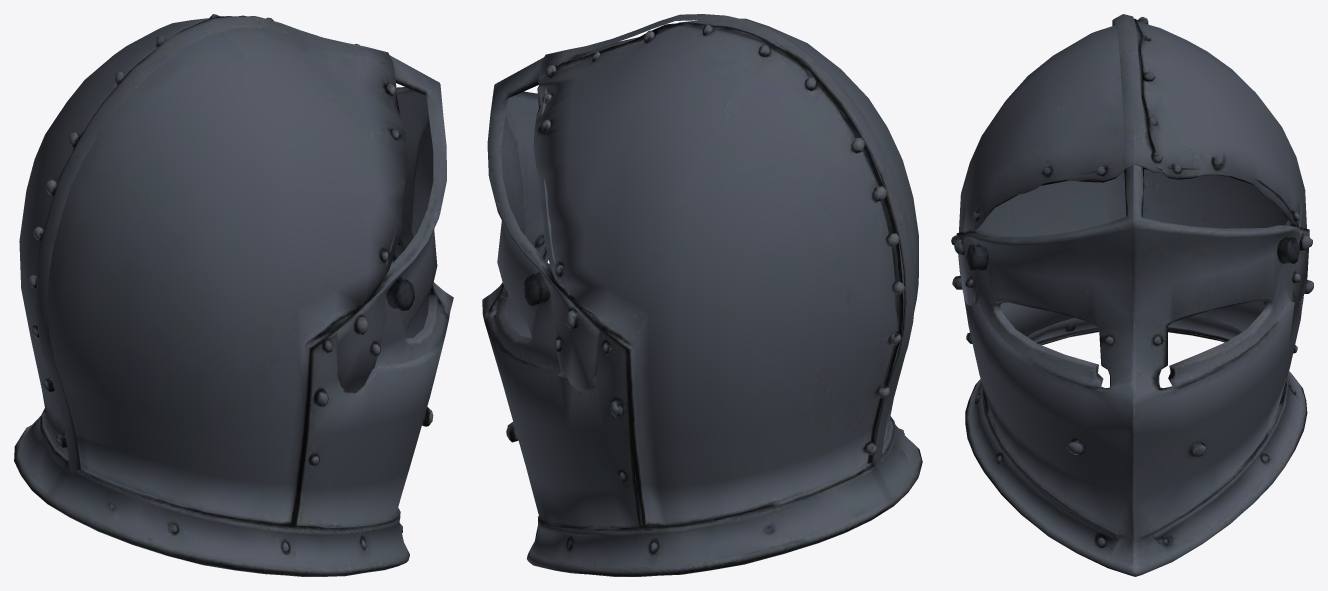
Rendered from iron_full_helm.glb.
3 views of the same model, side by side, from view 1: azimuth 30°, elevation 25°; view 2: azimuth 150°, elevation 25°; view 3: azimuth 270°, elevation 25° (orthographic). The views are drawn at different scales.
Visible parts, largest first — view 1: tripo_node_af3596da-f39c-445c-85cb-942779934b46; view 2: tripo_node_af3596da-f39c-445c-85cb-942779934b46; view 3: tripo_node_af3596da-f39c-445c-85cb-942779934b46.
Part boxes in pixels (bbox=[...]): tripo_node_af3596da-f39c-445c-85cb-942779934b46: bbox=[14, 14, 453, 576]; tripo_node_af3596da-f39c-445c-85cb-942779934b46: bbox=[482, 14, 922, 576]; tripo_node_af3596da-f39c-445c-85cb-942779934b46: bbox=[951, 14, 1313, 576].
Bounding box in the file's own units: 0.5331 × 0.6863 × 0.4761.
Materials: 1 (1 with a texture image).
